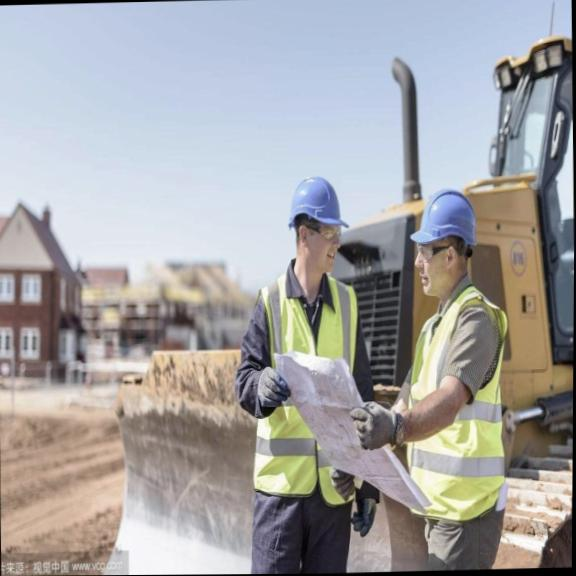safety_vest: (230, 270, 379, 492), (390, 285, 514, 527)
